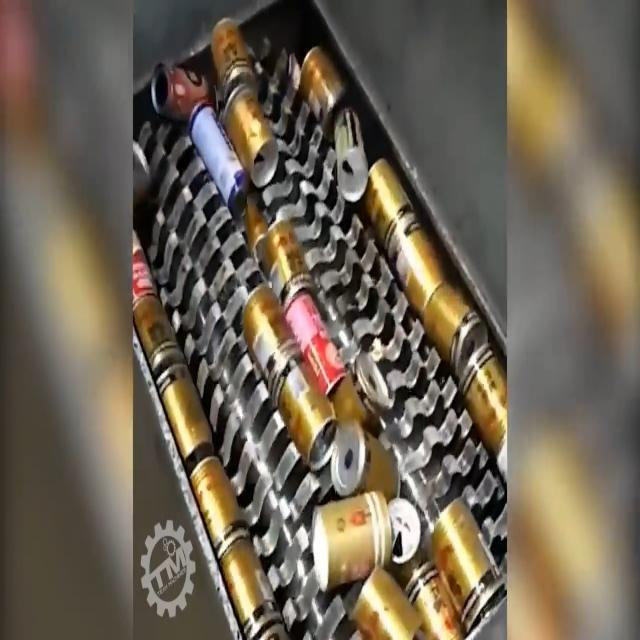Broyeur: (135, 0, 507, 640)
